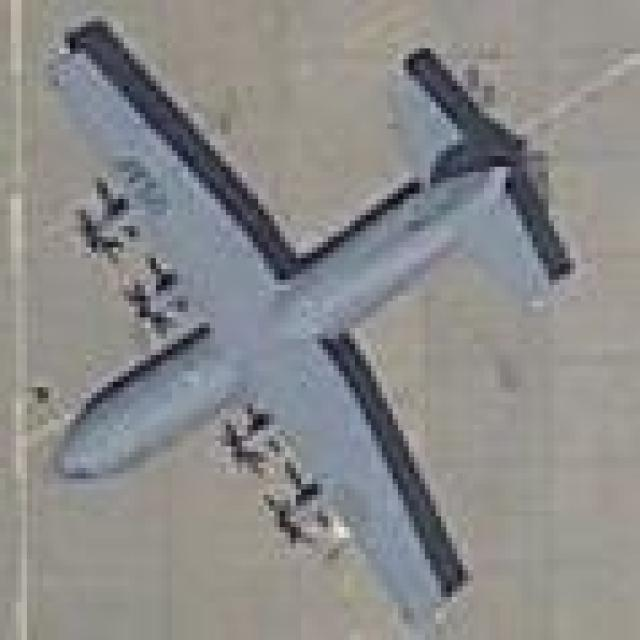C-130_TopDown: (45, 18, 580, 621)
